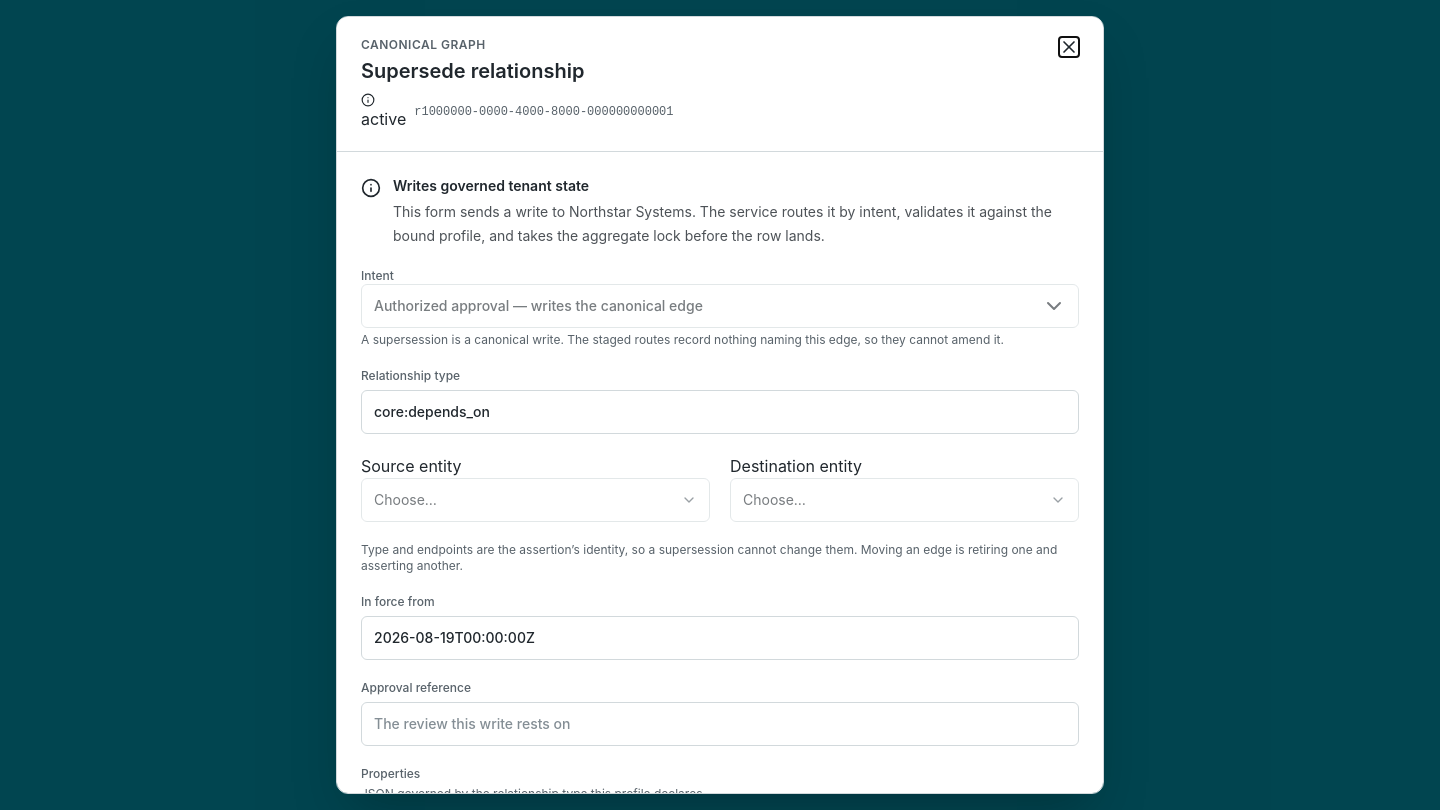
Test: RelationshipAuthoringDialog — superseding › branches on the code, so an ordinary refusal is not read as a conflict
Expected: the field labelled "Relationship type" is shown, x1=361 y1=390 x2=1079 y2=434
Step 1. Type "review-9" into the field labelled "Approval reference" → (720, 724), box x1=361 y1=702 x2=1079 y2=746
(page scrolled)
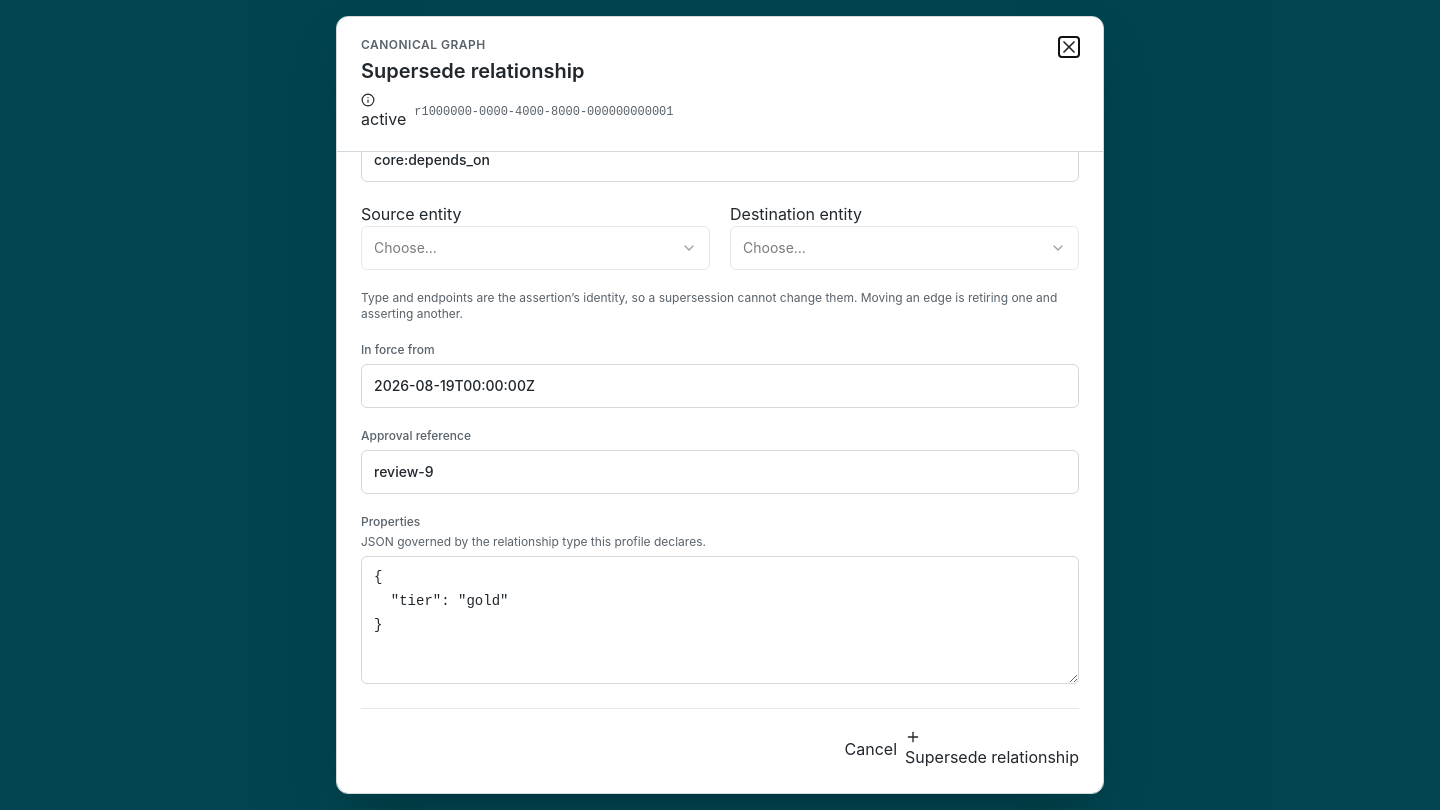
Step 2. Click the button "Supersede relationship" → (992, 749), box x1=905 y1=729 x2=1079 y2=769
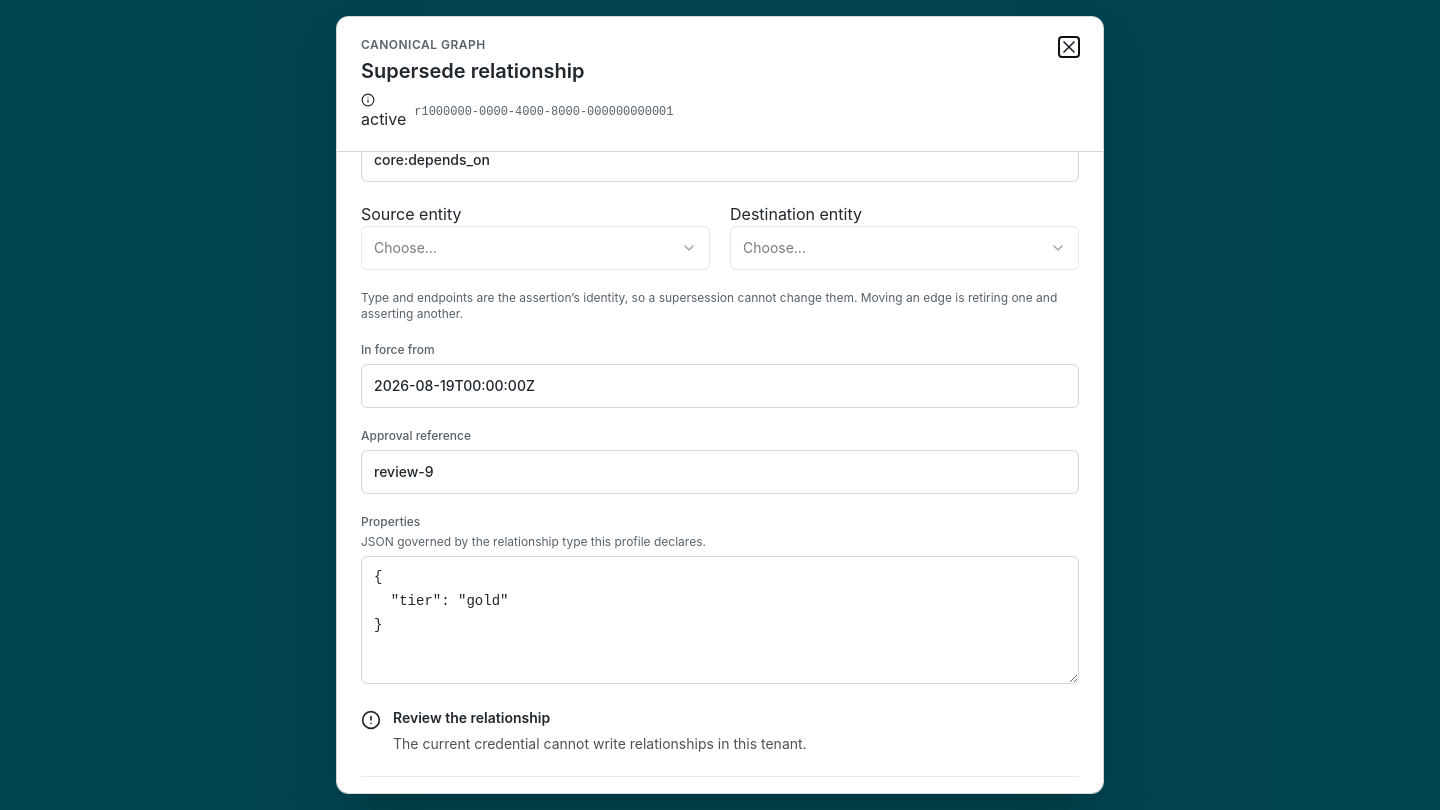
Result: the text "The current credential cannot write relationships in this tenant." is shown at x1=393 y1=732 x2=807 y2=756
